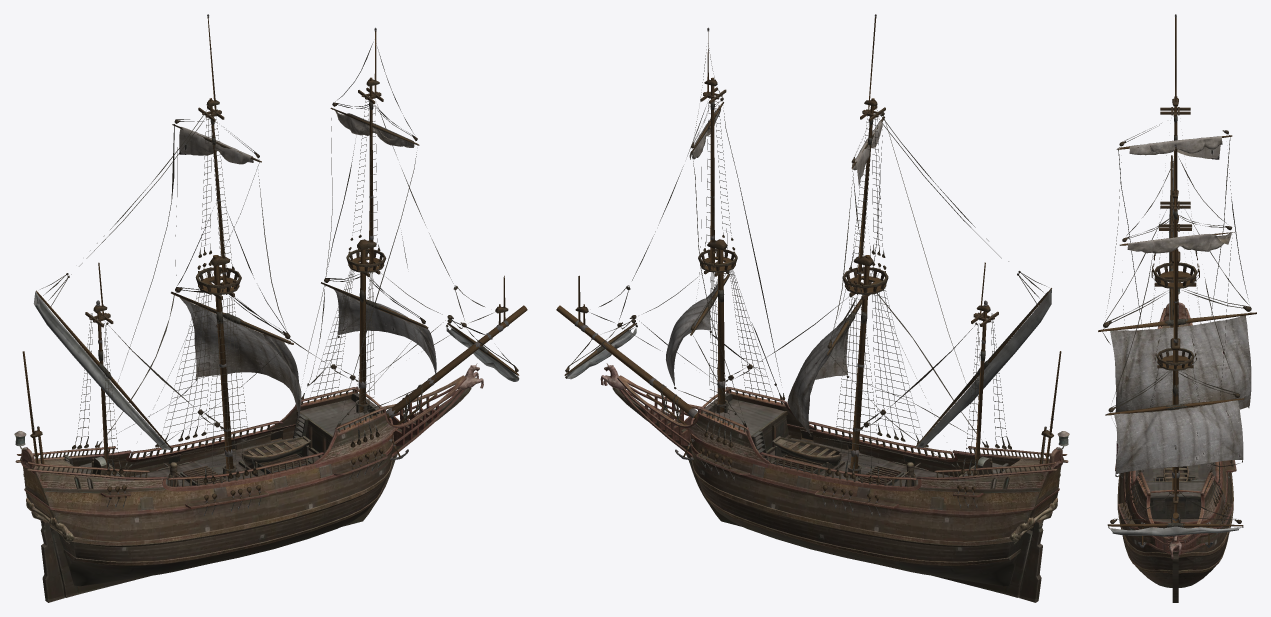
File: ship.glb
3 views of the same model, side by side, from view 1: azimuth 30°, elevation 25°; view 2: azimuth 150°, elevation 25°; view 3: azimuth 270°, elevation 25° (orthographic). The views are drawn at different scales.
Visible parts, largest first — view 1: dutch_ship_medium_hull, dutch_ship_medium_rigging, dutch_ship_medium_sails; view 2: dutch_ship_medium_hull, dutch_ship_medium_rigging, dutch_ship_medium_sails; view 3: dutch_ship_medium_sails, dutch_ship_medium_hull, dutch_ship_medium_rigging.
Boxes of the visible parts, x1,y1,x2,y2 form: dutch_ship_medium_hull: (14, 363, 483, 602); dutch_ship_medium_rigging: (22, 14, 527, 515); dutch_ship_medium_sails: (179, 110, 436, 419); dutch_ship_medium_hull: (600, 363, 1069, 602); dutch_ship_medium_rigging: (556, 14, 1061, 516); dutch_ship_medium_sails: (666, 104, 882, 434); dutch_ship_medium_sails: (1110, 136, 1251, 474); dutch_ship_medium_hull: (1115, 282, 1236, 602); dutch_ship_medium_rigging: (1098, 14, 1256, 547).
Bounding box in the file's own units: 24.07 × 24.66 × 6.8.
Materials: 3 (3 with a texture image).
